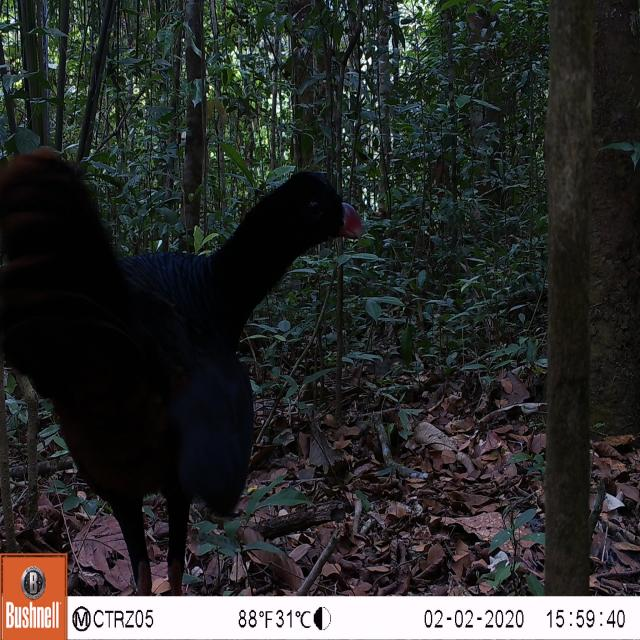Salvins Curassow: (0, 104, 396, 595)
